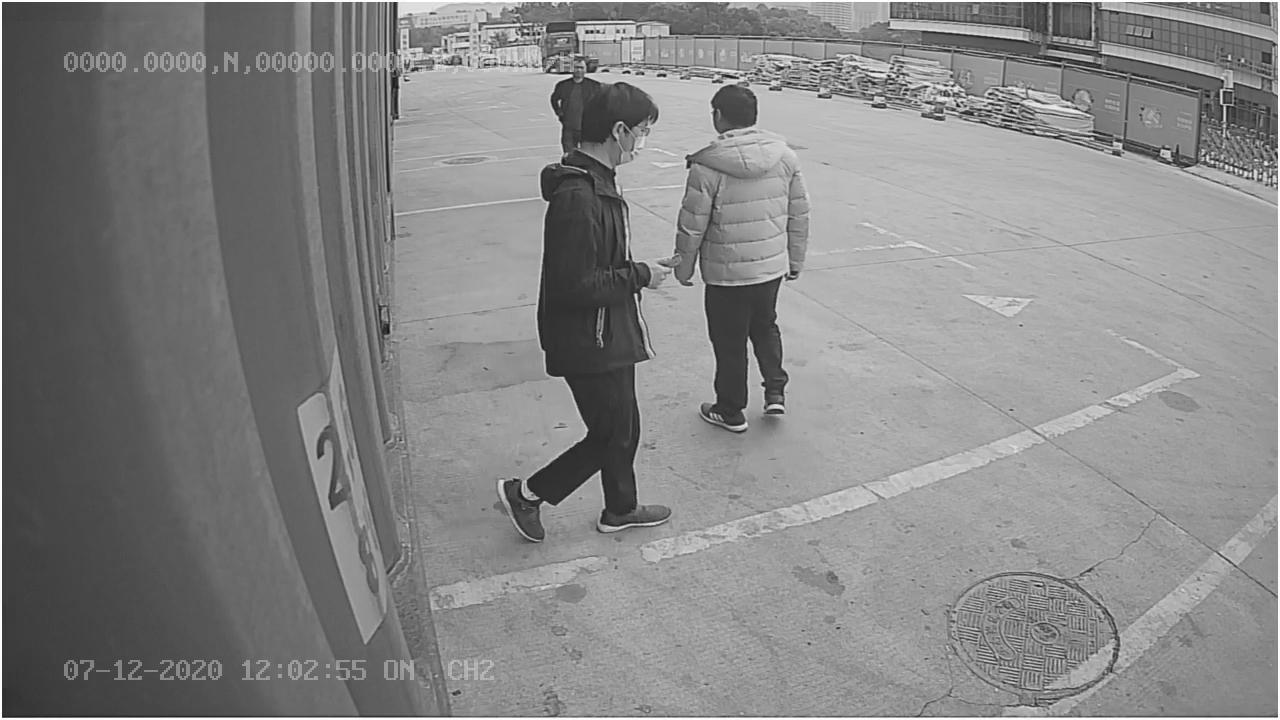person: (672, 77, 813, 434)
